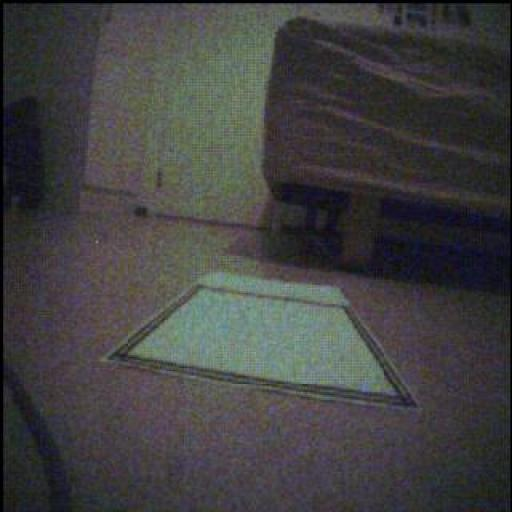pad: (107, 275, 417, 408)
